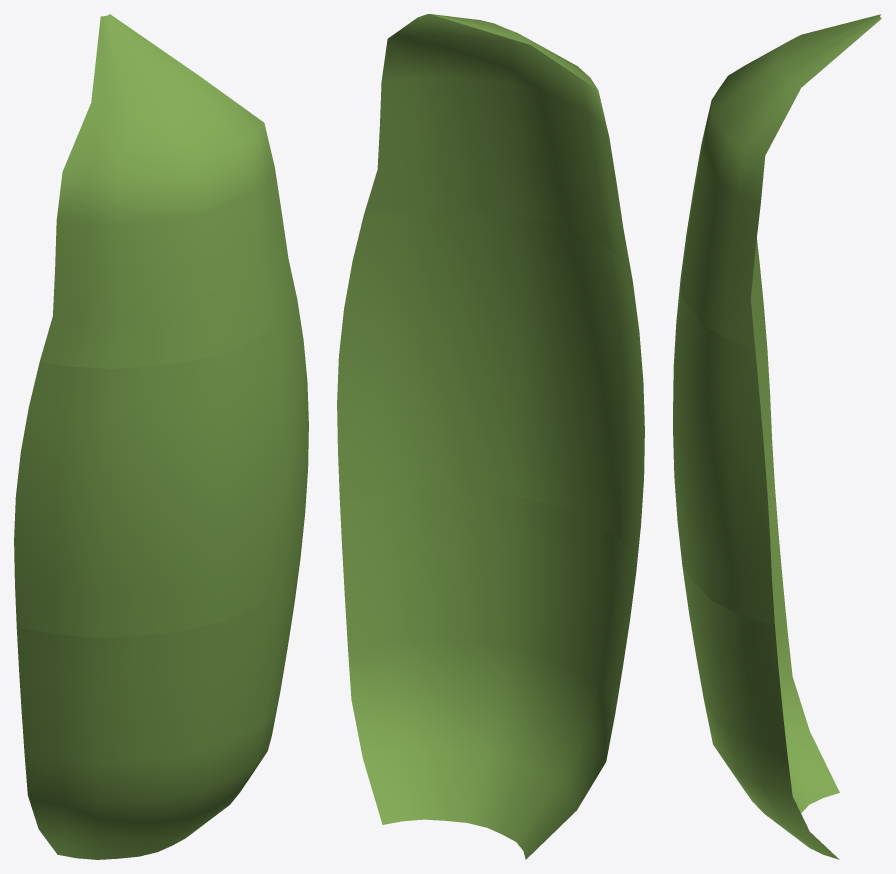
Rendered from hoja-choclo.glb.
3 renders of one model, left to right at view 1: azimuth 30°, elevation 25°; view 2: azimuth 150°, elevation 25°; view 3: azimuth 270°, elevation 25°, orthographic. The views are drawn at different scales.
Parts seen in each view (by area): view 1: banda1, banda2, banda0; view 2: banda0, banda1, banda2; view 3: banda1, banda2, banda0.
Boxes of the visible parts, box(x1,y1,x2,y2) form: banda1: box(14, 299, 308, 637); banda2: box(39, 14, 296, 368); banda0: box(16, 560, 300, 859); banda0: box(340, 489, 635, 859); banda1: box(337, 208, 644, 572); banda2: box(364, 14, 632, 279); banda1: box(673, 238, 774, 625); banda2: box(680, 14, 881, 348); banda0: box(682, 487, 839, 859).
Size of the model in its own units: 1.02 by 2.67 by 0.6246.
